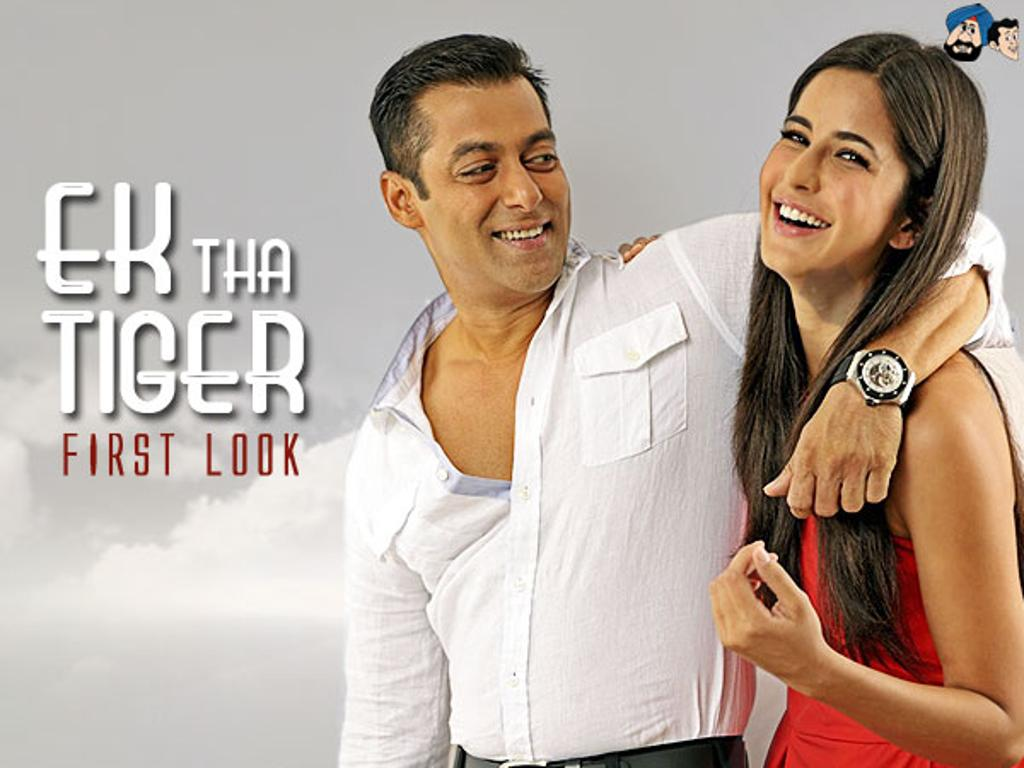face: (420, 82, 572, 302), (760, 68, 908, 274)
